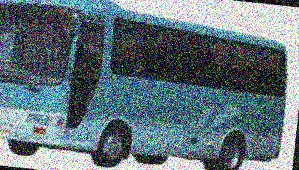bus: (0, 0, 294, 170)
